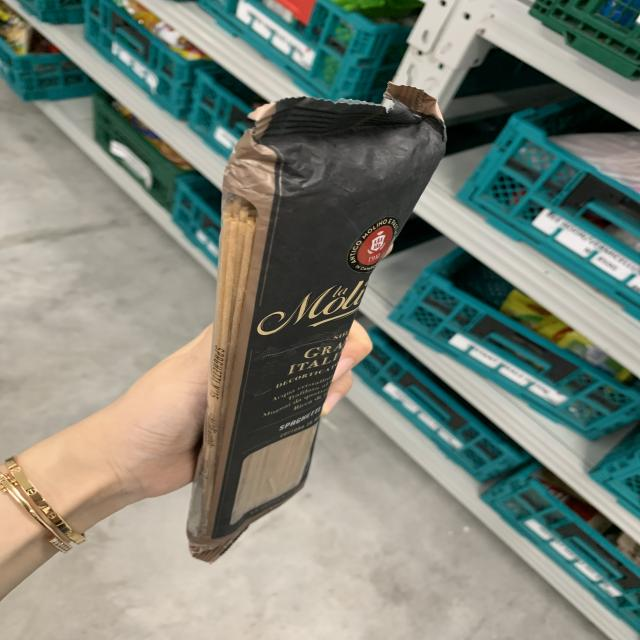object_name: (223, 96, 435, 554)
